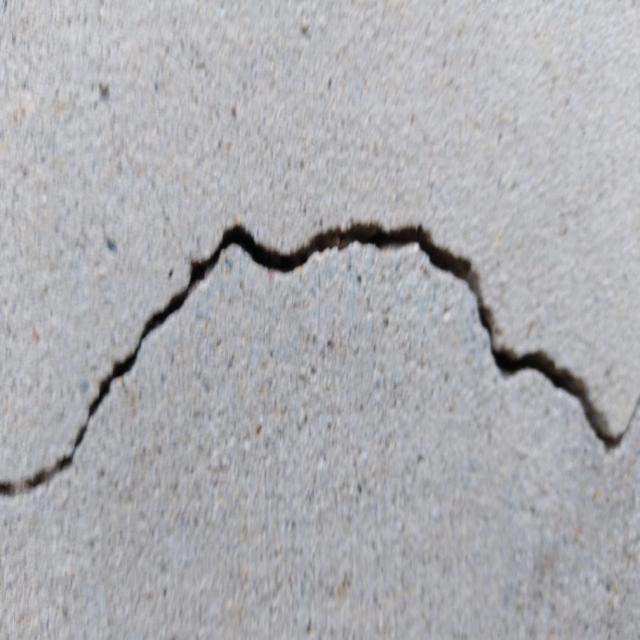diagonal crack: (0, 219, 640, 498)
horizontal crack: (146, 171, 188, 259)
